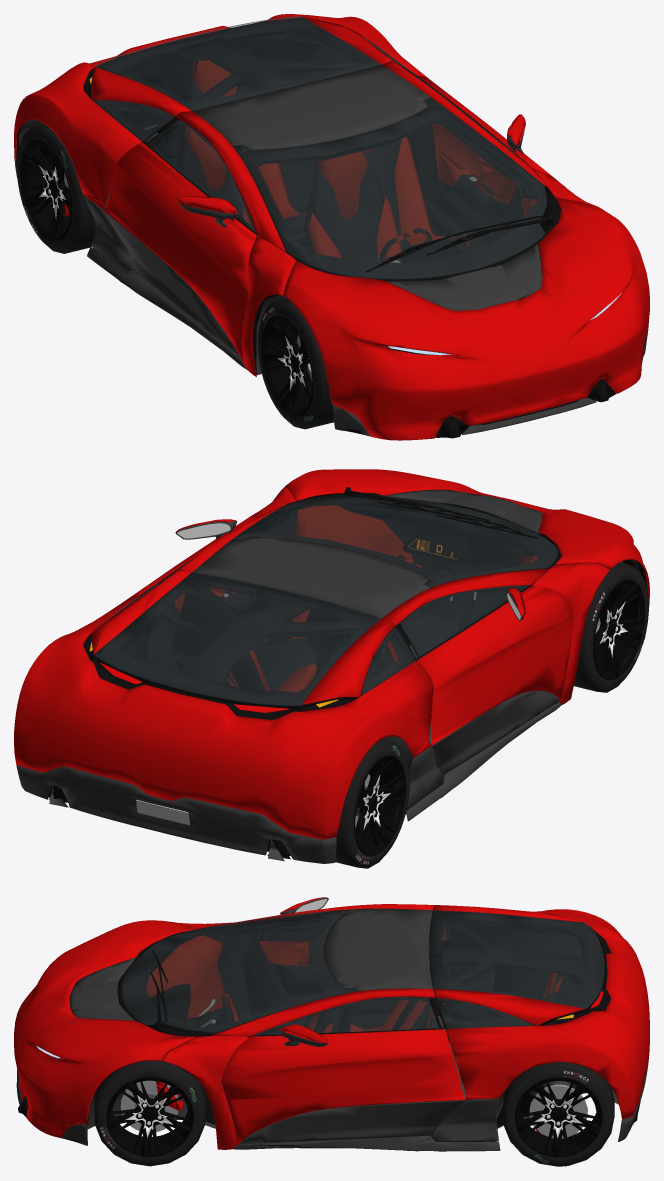
The model's file is vector-gt.glb.
The picture shows the model from 3 angles, top to bottom: view 1: azimuth 30°, elevation 25°; view 2: azimuth 150°, elevation 25°; view 3: azimuth 270°, elevation 25°; orthographic projection. The views are drawn at different scales.
Parts seen in each view (by area): view 1: object 12, object 2, object 3, object 11, object 4, object 5, wheel_fr, wheel_rr, object 7, object 1, object 9; view 2: object 12, object 2, object 11, object 3, object 4, wheel_rr, wheel_fr, object 5, object 9, object 7, object 6, object 1 (+2 smaller); view 3: object 12, object 2, object 3, object 11, object 4, wheel_rl, wheel_fl, object 5, object 7, object 1, object 9.
Boxes of the visible parts, <box> form: object 12: <box>14,14,649,440</box>; object 2: <box>94,16,546,279</box>; object 3: <box>18,17,643,438</box>; object 11: <box>15,65,648,436</box>; object 4: <box>16,33,524,279</box>; object 5: <box>184,60,538,348</box>; wheel_fr: <box>258,298,333,429</box>; wheel_rr: <box>17,124,95,253</box>; object 7: <box>93,174,555,373</box>; object 1: <box>18,78,594,428</box>; object 9: <box>402,238,462,262</box>; object 12: <box>14,469,649,839</box>; object 2: <box>94,495,557,705</box>; object 11: <box>16,489,645,863</box>; object 3: <box>49,487,648,859</box>; object 4: <box>48,503,535,855</box>; wheel_rr: <box>335,739,409,868</box>; wheel_fr: <box>574,562,648,692</box>; object 5: <box>175,493,537,691</box>; object 9: <box>402,532,470,565</box>; object 7: <box>257,507,559,809</box>; object 6: <box>275,598,475,648</box>; object 1: <box>49,519,622,861</box>; object 12: <box>14,897,649,1149</box>; object 2: <box>121,909,604,1035</box>; object 3: <box>18,906,633,1148</box>; object 11: <box>16,898,649,1151</box>; object 4: <box>117,913,638,1123</box>; wheel_rl: <box>503,1062,614,1166</box>; wheel_fl: <box>94,1058,205,1166</box>; object 5: <box>146,929,562,1032</box>; object 7: <box>182,928,496,1148</box>; object 1: <box>38,932,620,1129</box>; object 9: <box>150,983,190,1020</box>.
Bounding box in the file's own units: 2.34 × 1.15 × 4.36.
22 materials, 2 textured.
